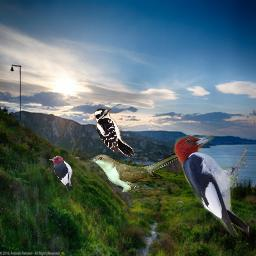Cuckoo: (87, 144, 193, 192)
Woodpecker: (172, 132, 253, 238), (94, 108, 135, 159), (49, 156, 73, 191)
